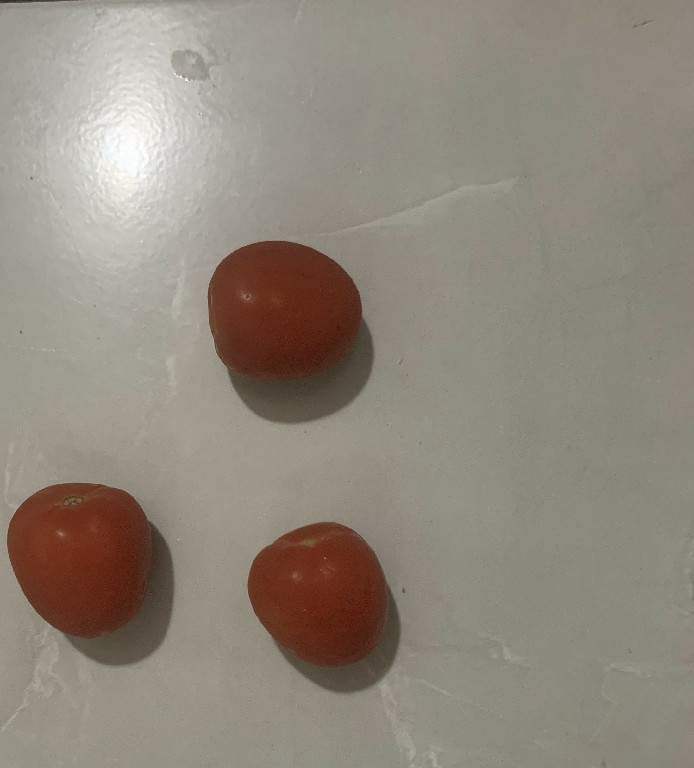OK: (9, 473, 163, 646), (237, 514, 390, 675), (205, 236, 371, 381)
